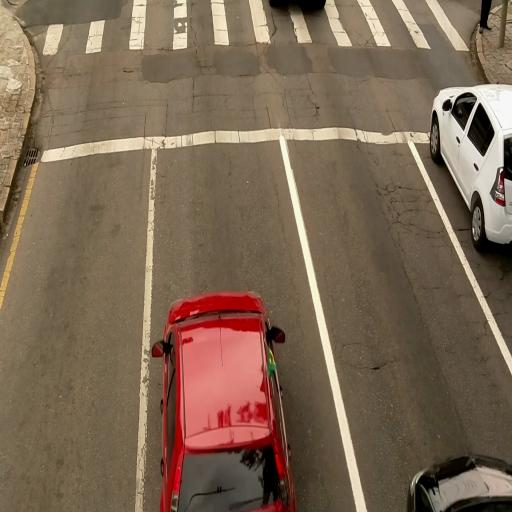car: (152, 291, 295, 511), (428, 82, 510, 249), (406, 452, 511, 510), (270, 0, 330, 10)
